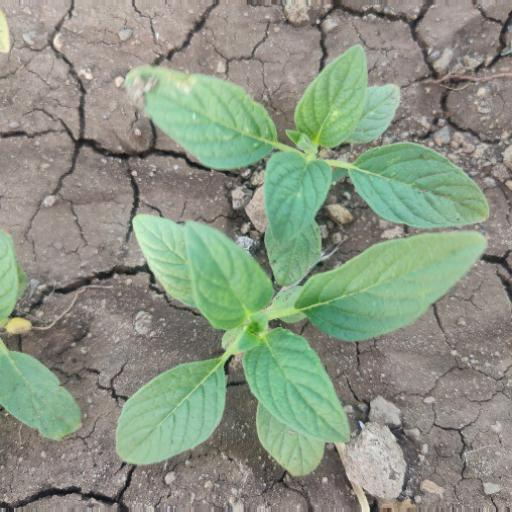crop: (103, 46, 494, 472)
